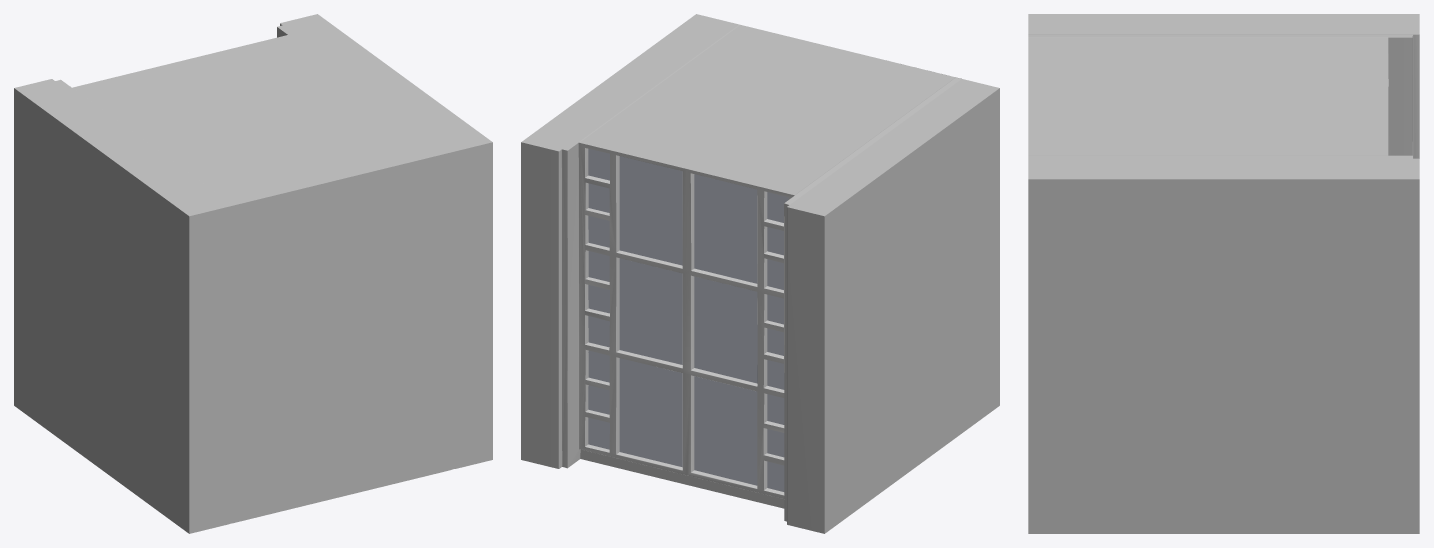
The model's file is Ground_Wall_001.fbx.
3 renders of one model, left to right at view 1: azimuth 30°, elevation 25°; view 2: azimuth 150°, elevation 25°; view 3: azimuth 270°, elevation 25°, orthographic. The views are drawn at different scales.
Parts seen in each view (by area): view 1: Ground Wall.001; view 2: Ground Wall.001; view 3: Ground Wall.001.
Boxes of the visible parts, x1,y1,x2,y2 form: Ground Wall.001: (14, 14, 492, 533); Ground Wall.001: (521, 14, 999, 533); Ground Wall.001: (1028, 14, 1419, 533).
Size of the model in its own units: 99.97 by 100 by 100.
